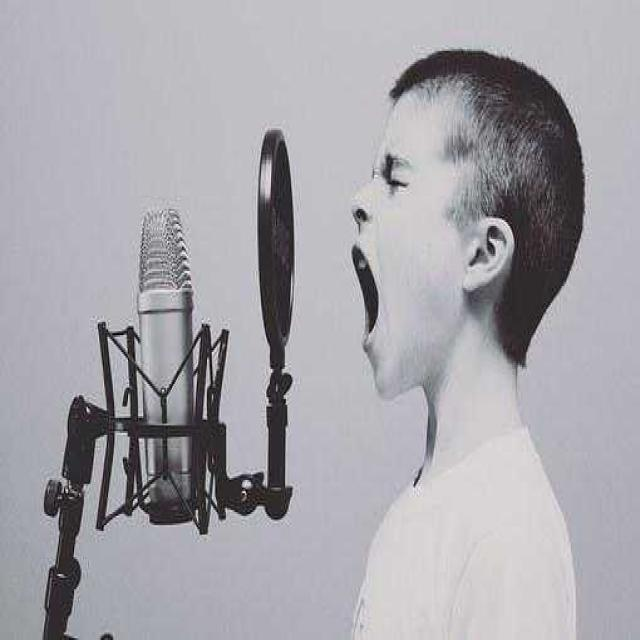microphone: (135, 207, 197, 521)
